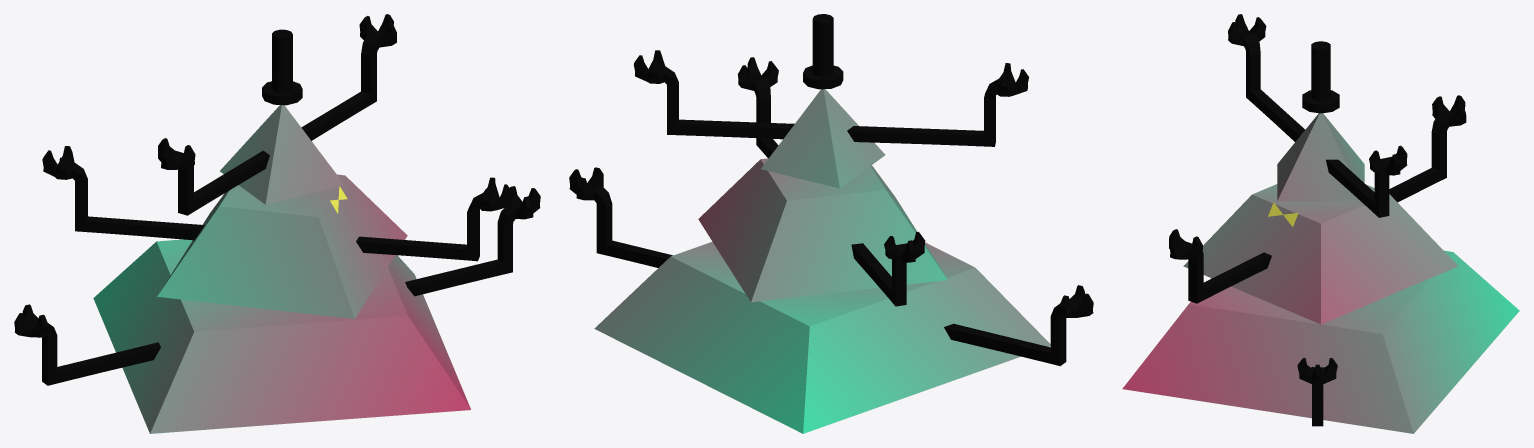
File: FinalBossBill.FBX
The picture shows the model from 3 angles, left to right: view 1: azimuth 30°, elevation 25°; view 2: azimuth 150°, elevation 25°; view 3: azimuth 270°, elevation 25°; orthographic projection. The views are drawn at different scales.
Parts seen in each view (by area): view 1: Object001, Object002, Pyramid001, Box001, Box002, Box005, Box006, Box003, Box004, Cylinder001; view 2: Object001, Object002, Pyramid001, Box003, Box002, Box004, Box006, Box001, Cylinder001, Box005; view 3: Object001, Object002, Pyramid001, Box005, Box003, Box001, Box004, Cylinder001, Box006.
Part boxes in pixels (bbox=[...]): Object001: bbox=[93, 239, 470, 433]; Object002: bbox=[157, 174, 407, 318]; Pyramid001: bbox=[220, 105, 344, 204]; Box001: bbox=[42, 146, 204, 240]; Box002: bbox=[14, 304, 160, 385]; Box005: bbox=[356, 177, 512, 261]; Box006: bbox=[405, 186, 540, 296]; Box003: bbox=[158, 138, 269, 215]; Box004: bbox=[301, 14, 396, 140]; Cylinder001: bbox=[262, 29, 302, 105]; Object001: bbox=[594, 241, 1050, 433]; Object002: bbox=[698, 158, 947, 302]; Pyramid001: bbox=[761, 89, 885, 188]; Box003: bbox=[847, 63, 1028, 146]; Box002: bbox=[944, 285, 1093, 366]; Box004: bbox=[634, 50, 794, 139]; Box006: bbox=[569, 167, 672, 267]; Box001: bbox=[851, 231, 925, 306]; Cylinder001: bbox=[803, 14, 843, 89]; Box005: bbox=[737, 57, 778, 158]; Object001: bbox=[1122, 250, 1519, 433]; Object002: bbox=[1183, 184, 1458, 324]; Pyramid001: bbox=[1277, 113, 1364, 201]; Box005: bbox=[1169, 229, 1271, 303]; Box003: bbox=[1228, 14, 1305, 141]; Box001: bbox=[1389, 95, 1466, 202]; Box004: bbox=[1326, 145, 1407, 217]; Cylinder001: bbox=[1302, 41, 1339, 113]; Box006: bbox=[1297, 358, 1337, 426].
Bounding box in the file's own units: 147 × 85.99 × 102.
